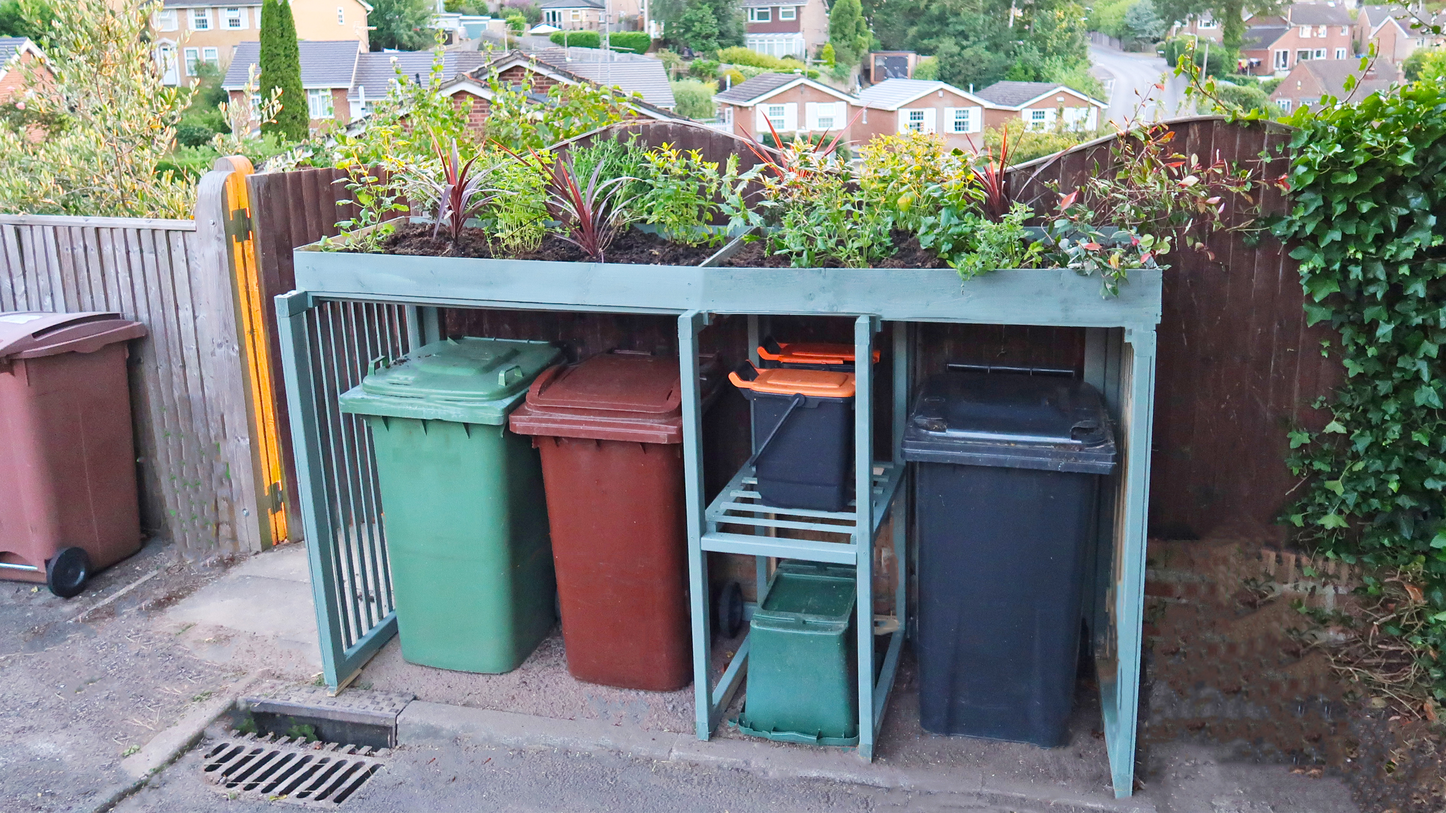TrashBin: (893, 355, 1141, 757), (330, 304, 564, 689), (514, 351, 719, 707), (0, 255, 189, 615)
